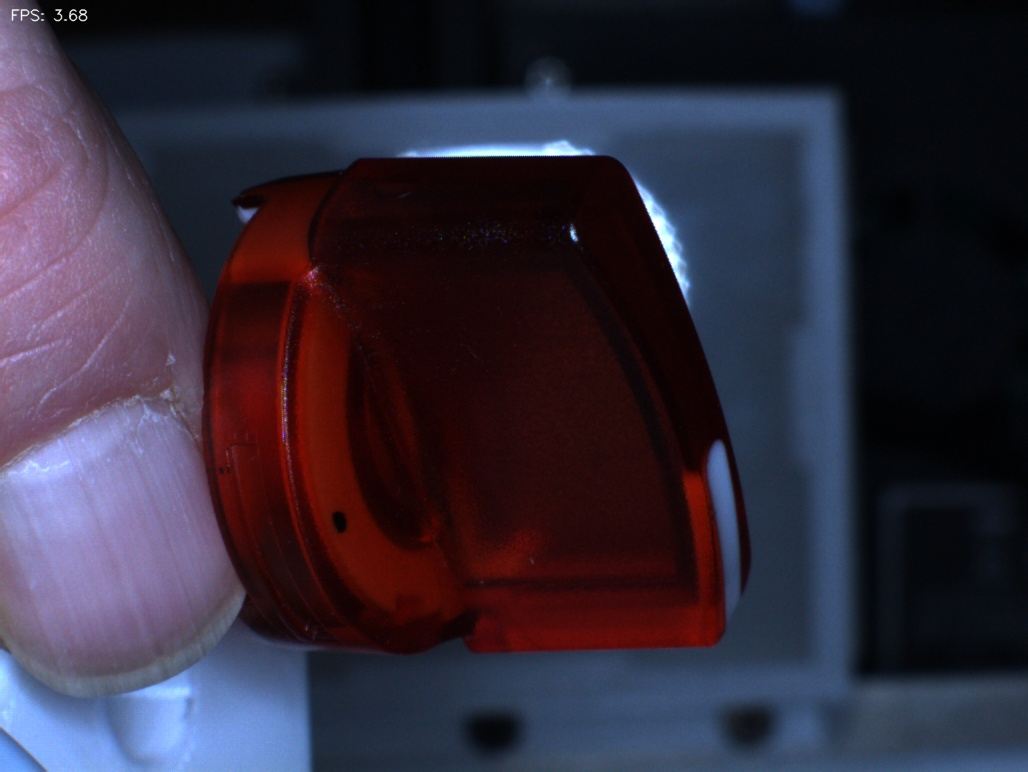PointNoir: (301, 478, 375, 560)
